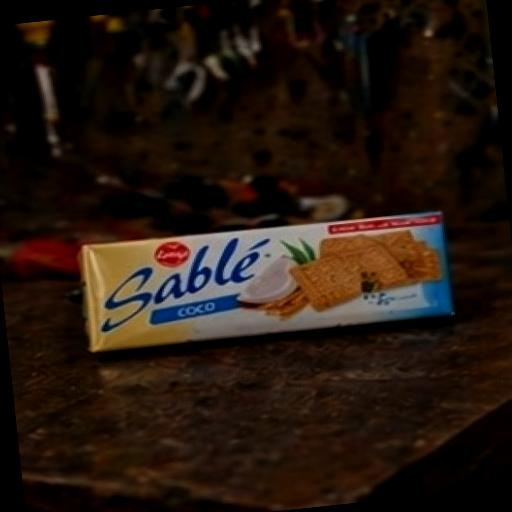sable: (21, 156, 512, 399)
